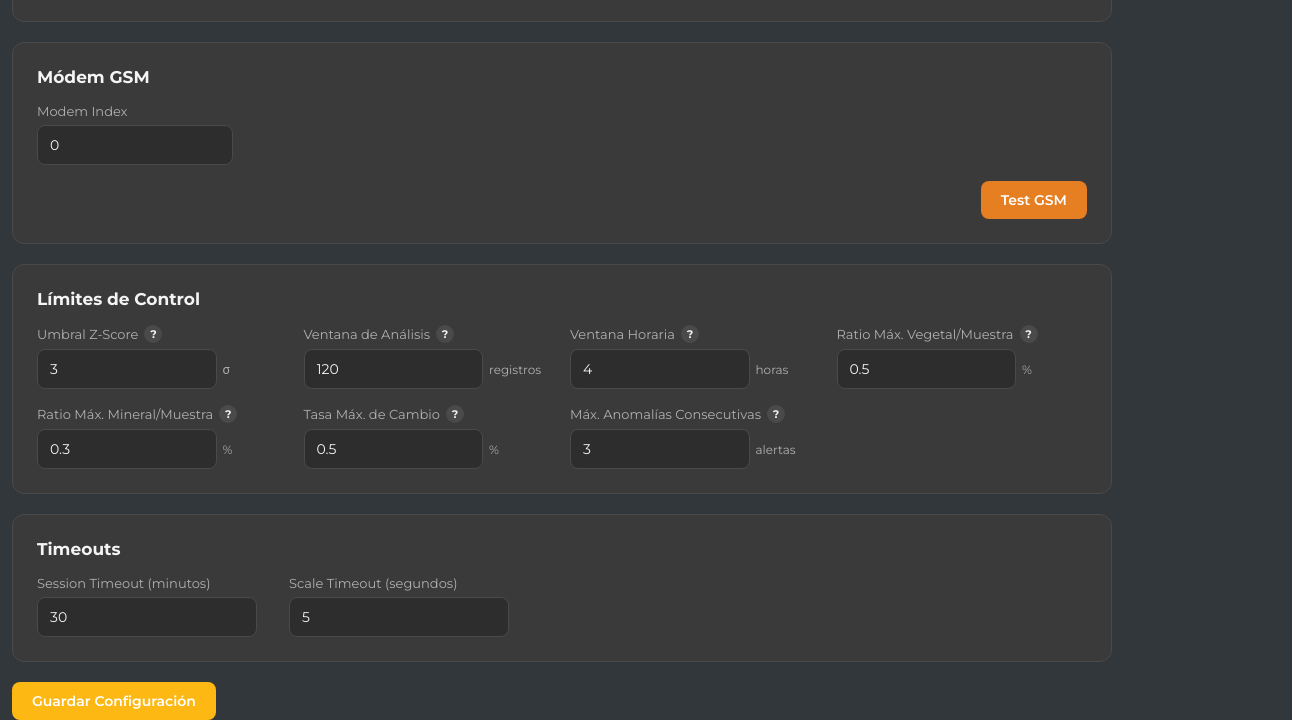
Test: AdminConfig › guardar configuracion (R3) › muestra error si PUT /api/config falla con ApiError
(page scrolled)
Expected: the heading "Timeouts" is shown, [37,539,120,559]
Click the button "Guardar Configuración" at (114, 701), box [12,682,216,719]
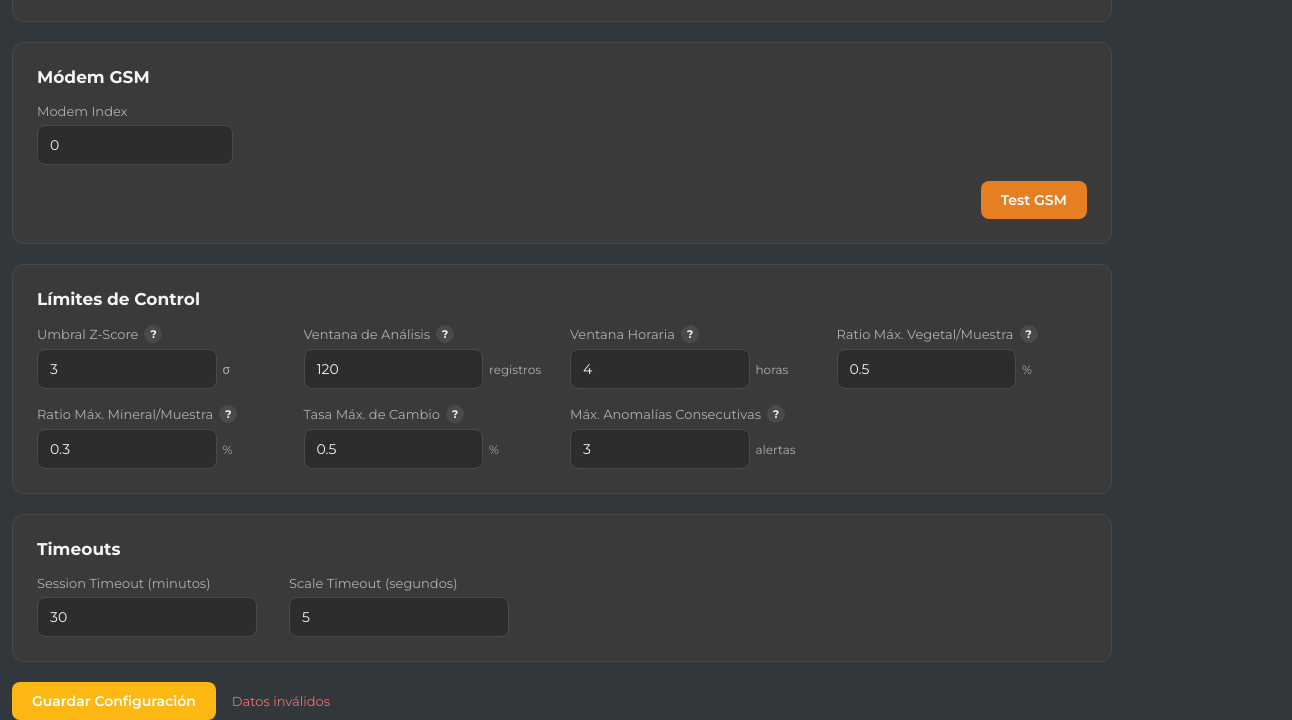
Now the text "Datos inválidos" is shown, box [232,693,330,709]
